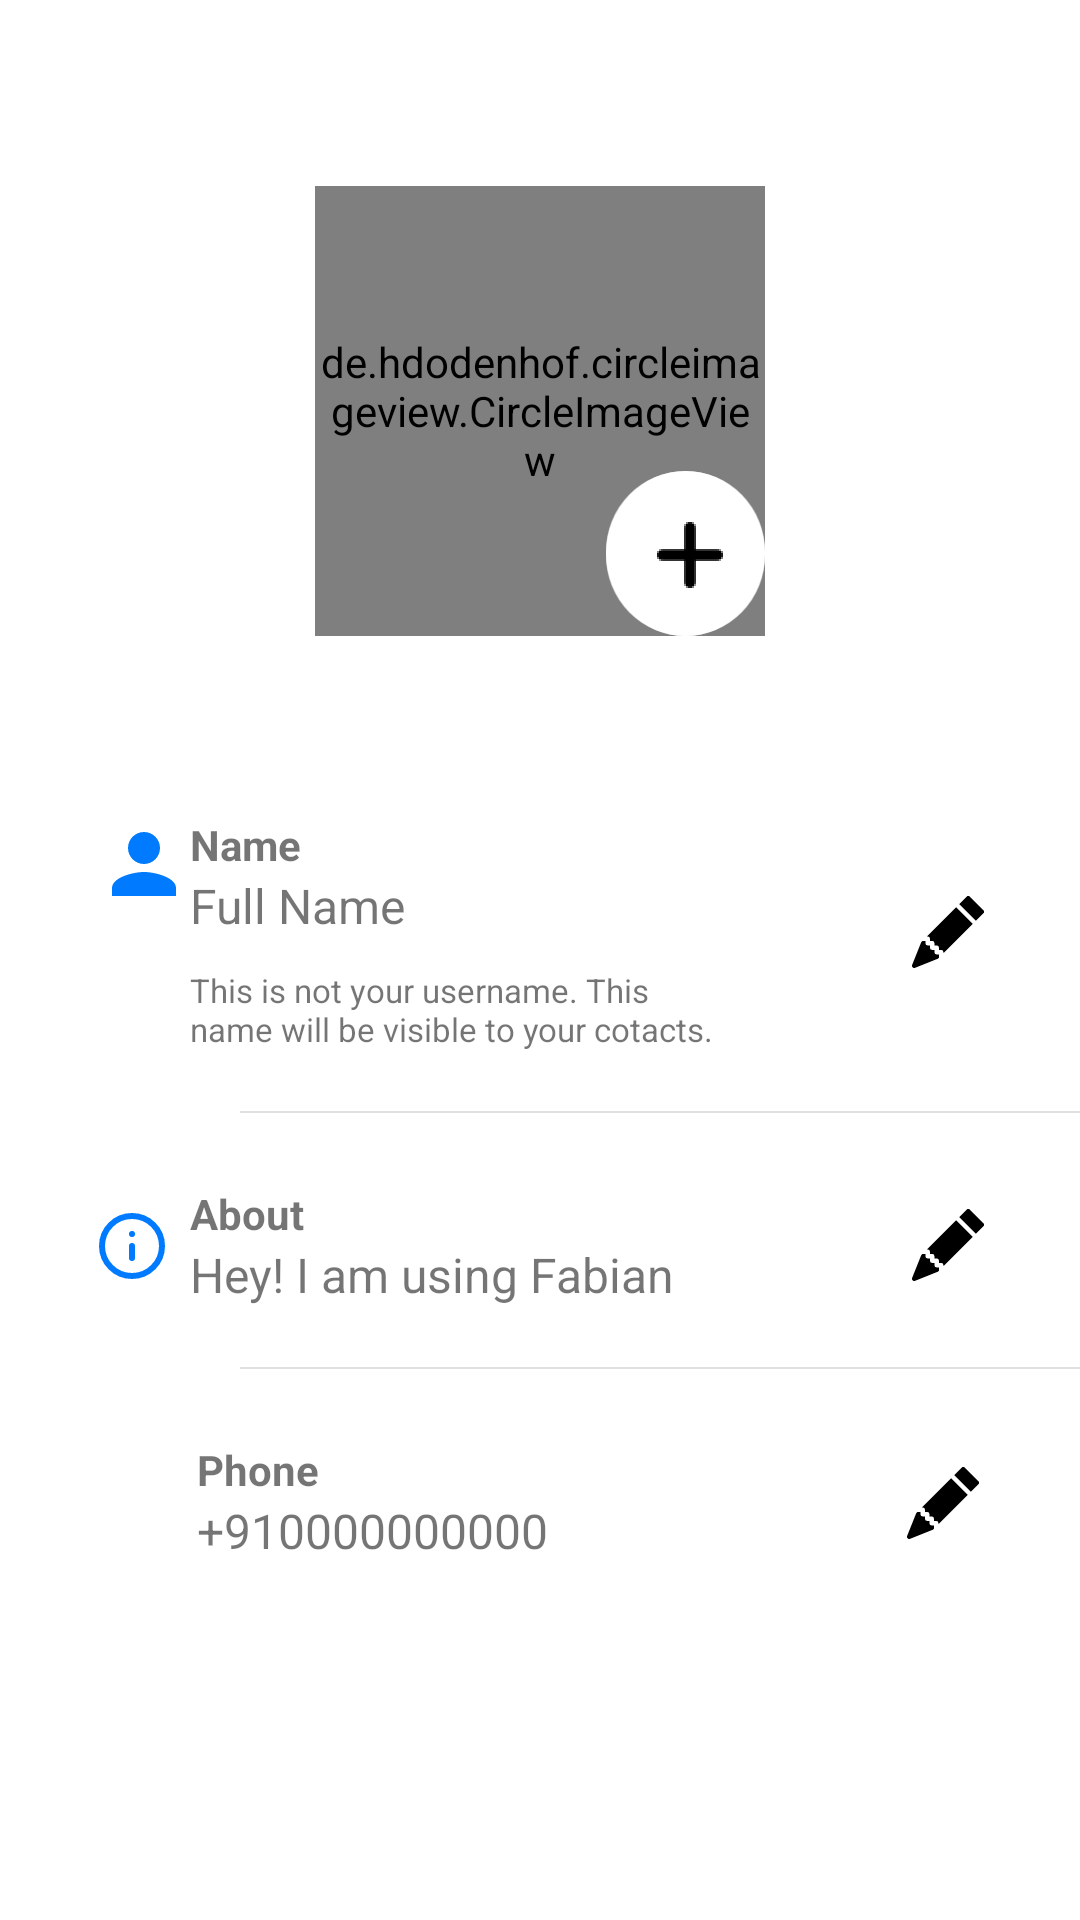

Named icons in this screenshot (1080×1920) and their centers, [x,y]:
edit: [948,932], [948,1245], [943,1503]
info: [132,1246]
person: [144,864]
upload plus: [685,553]
